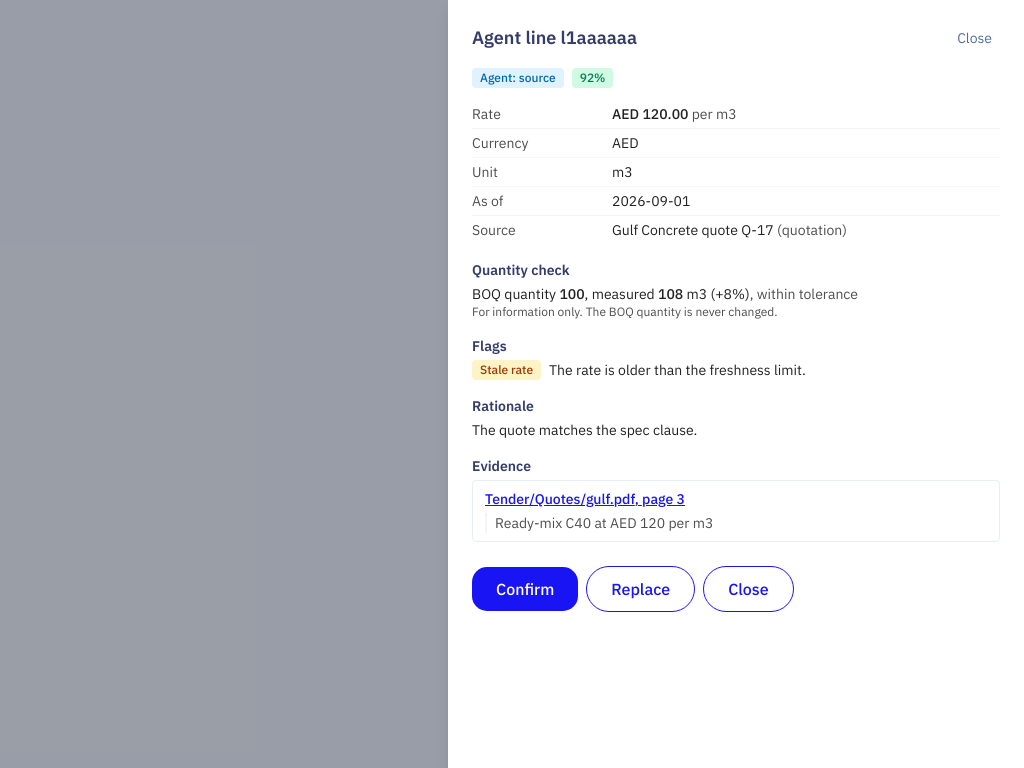
Test: AgentLineDrawer › confirms with the id of the proposal it shows
Click the button "Confirm": {"x": 525, "y": 589} [472, 567, 578, 611]
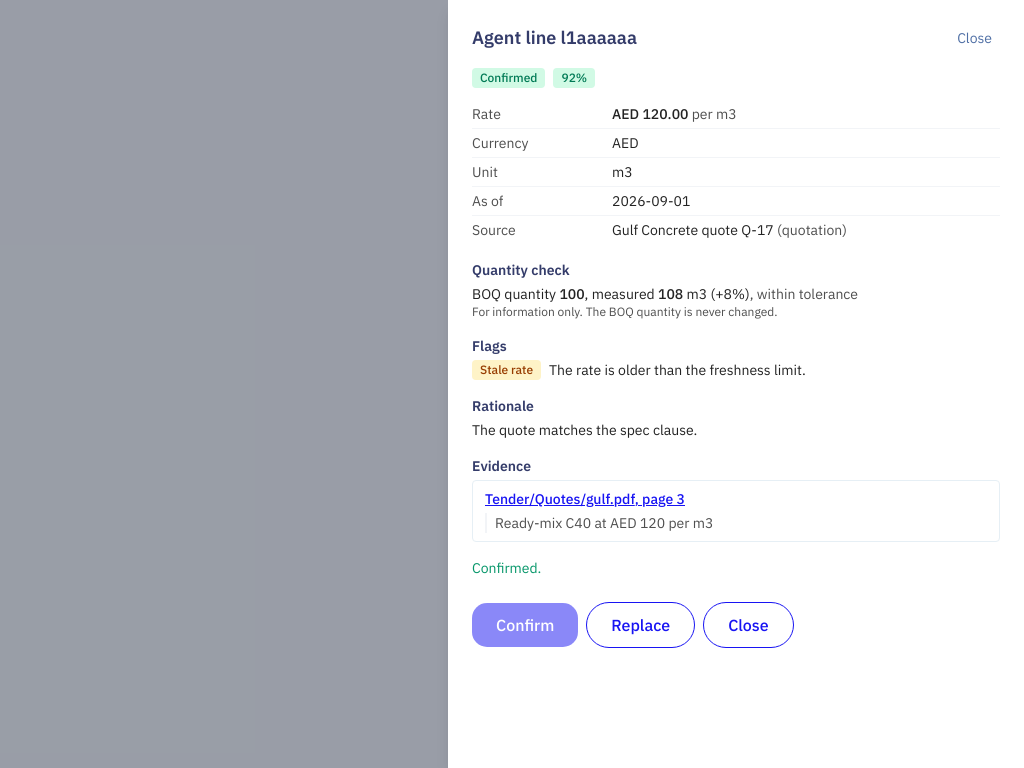
Now the message shows "Confirmed", box [472, 559, 538, 577]
